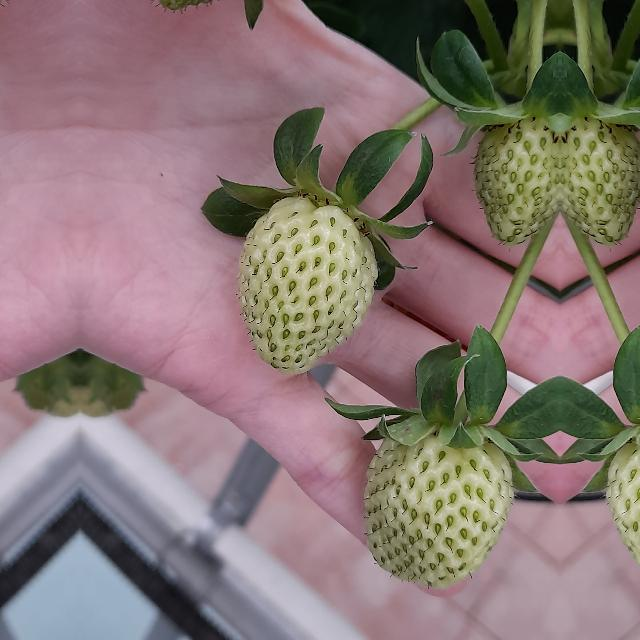Health_25: (362, 408, 514, 592), (236, 196, 378, 374), (472, 112, 560, 248), (560, 112, 640, 248), (606, 408, 640, 592)
